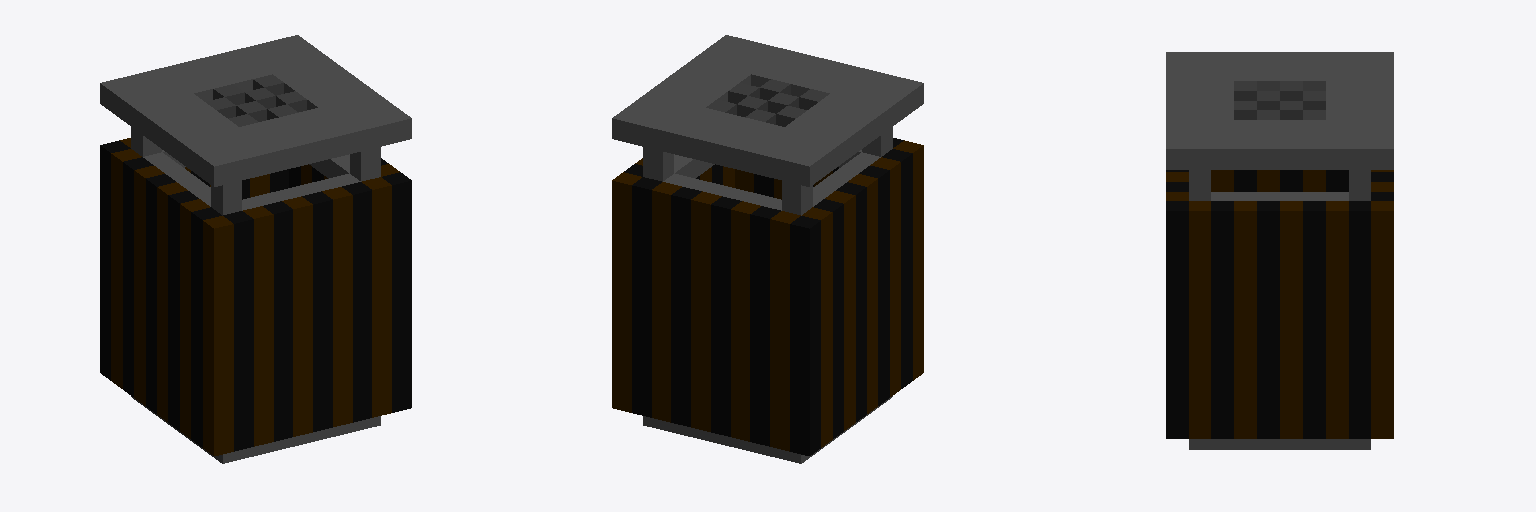
3 views of the same model, side by side, from view 1: azimuth 30°, elevation 25°; view 2: azimuth 150°, elevation 25°; view 3: azimuth 270°, elevation 25° (orthographic).
Parts seen in each view (by area): view 1: object 1; view 2: object 1; view 3: object 1.
Boxes of the visible parts, <box> form: object 1: <box>100,35,411,463</box>; object 1: <box>612,35,923,463</box>; object 1: <box>1166,52,1393,449</box>.
Bounding box in the file's own units: 1 × 1.5 × 1.
Materials: 1 (1 with a texture image).